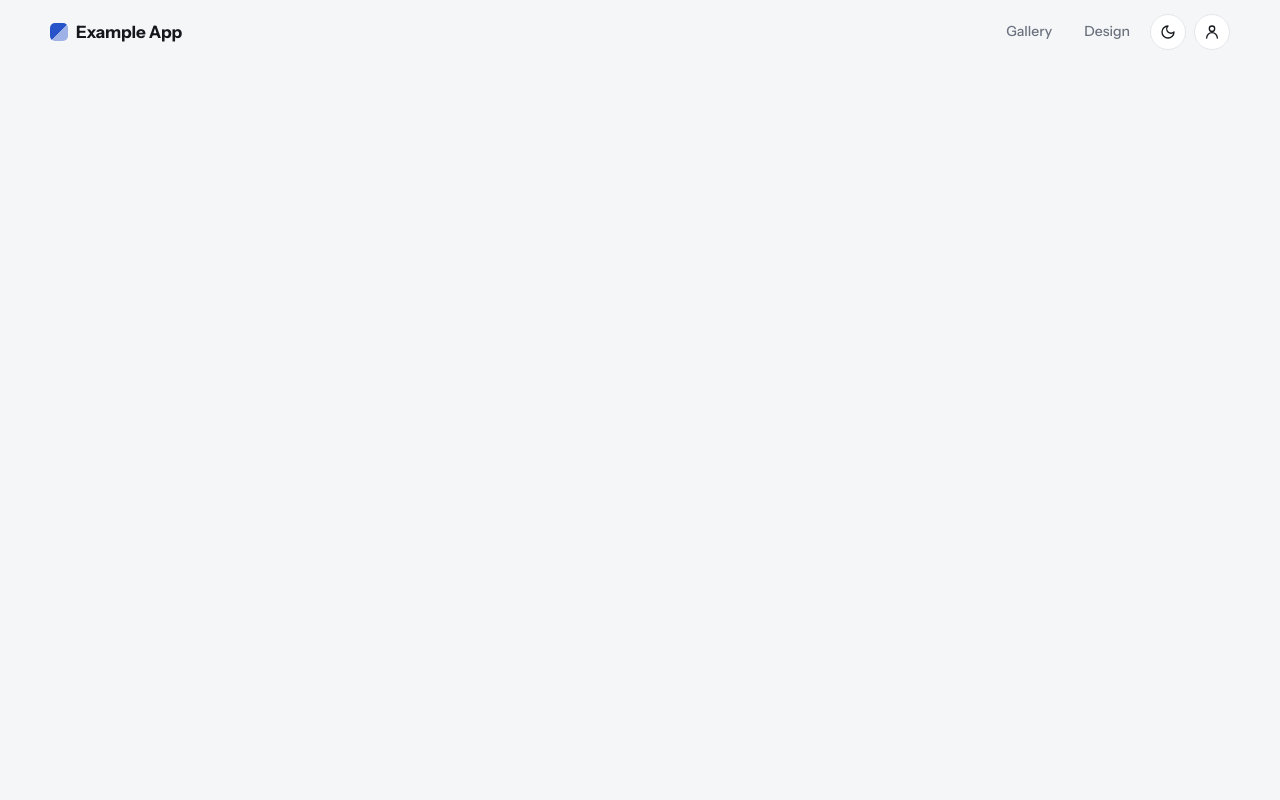
NavBar › offers the Google sign-in button in the panel when signed out
Click the button named "Account": point(1212, 32) x1=1194 y1=14 x2=1230 y2=50
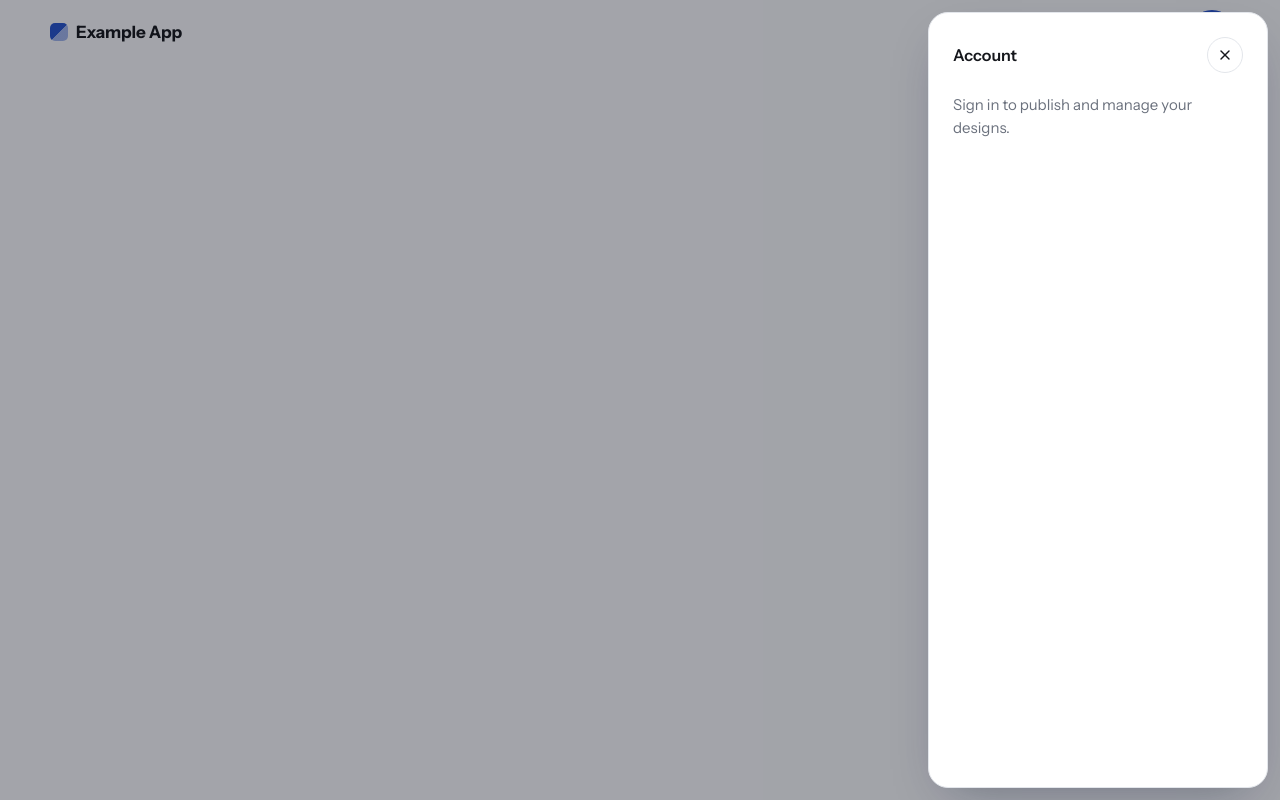
Expected: the text "Sign in to publish and manage your designs." is shown, x1=953 y1=95 x2=1192 y2=137
